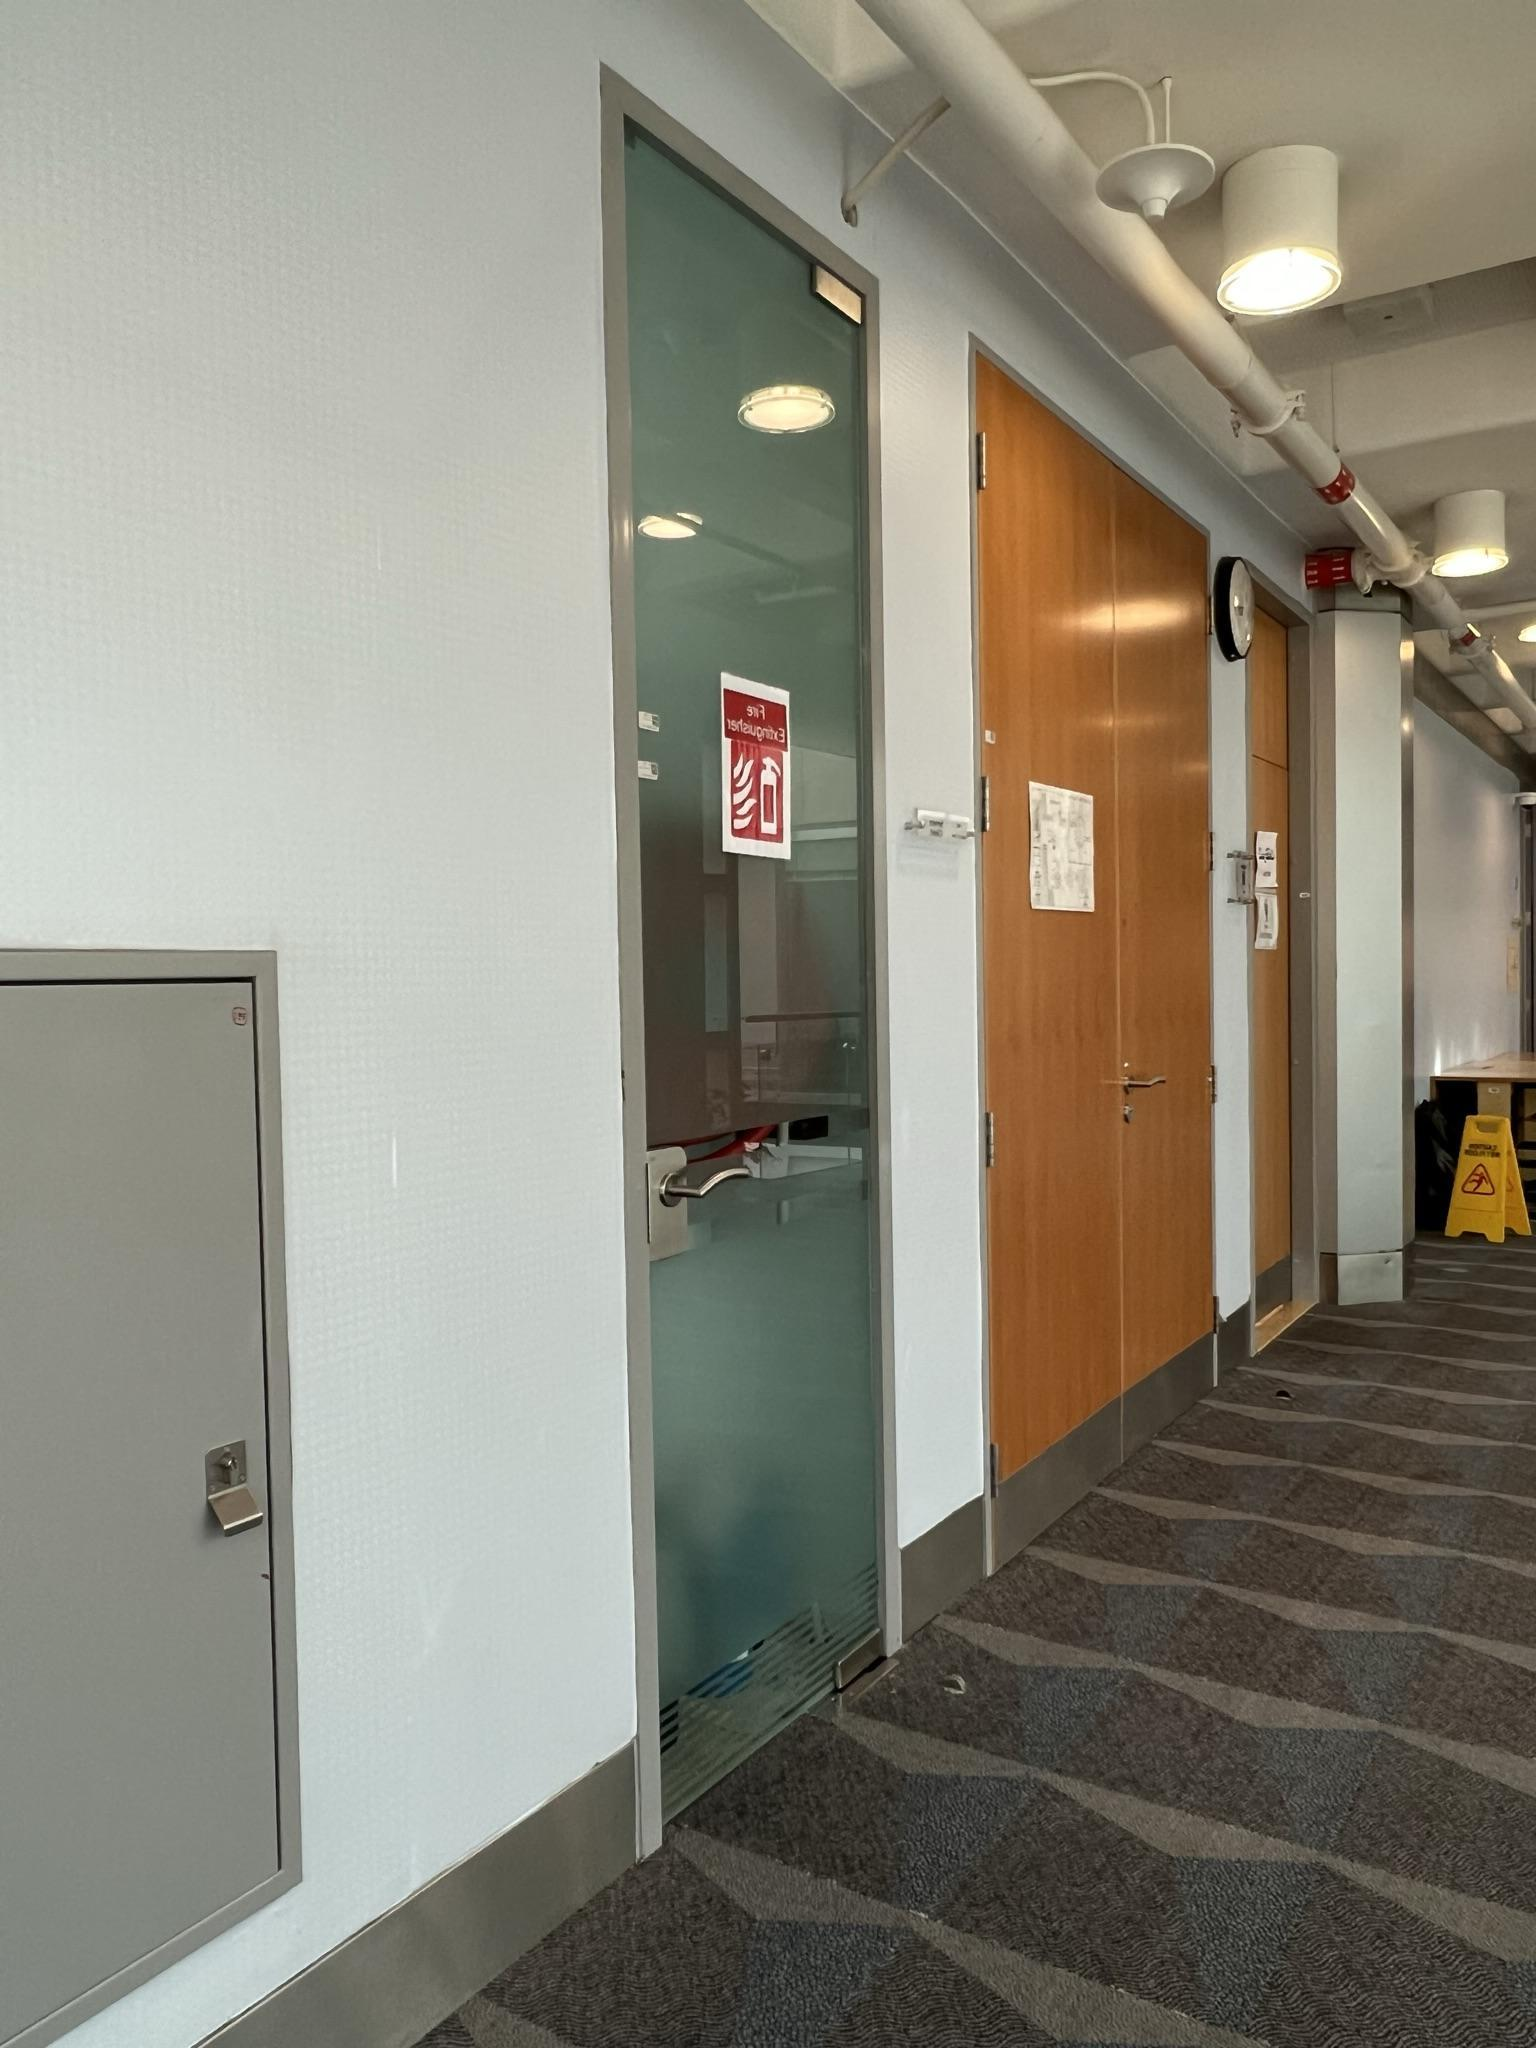door: (615, 266, 874, 1793), (983, 461, 1199, 1522), (1242, 571, 1309, 1358)
handle: (636, 1147, 770, 1266), (1115, 1061, 1179, 1134)
